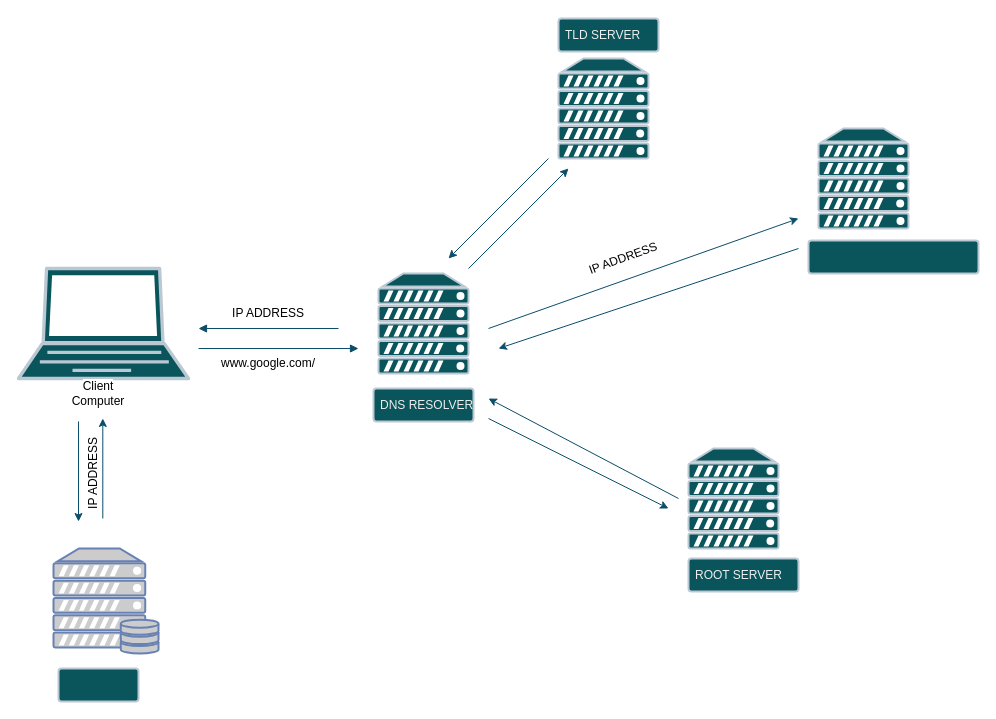
Some shapes in this 996 by 719 pixel diagram are drawn without their labels. Each missing label, with the centre of its shape:
AUTHENTICATION SERVER: pixel 893 256
SERVERS: pixel 98 684
